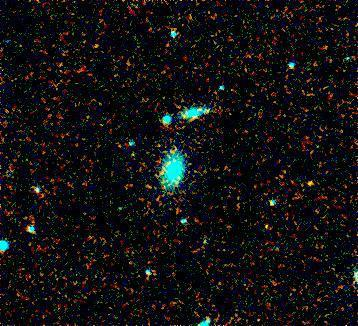star: (295, 169, 325, 199)
